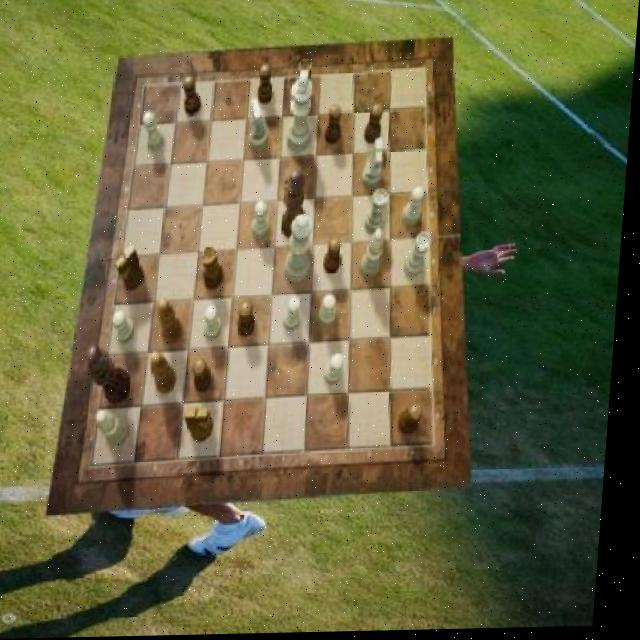bishop: (160, 299, 190, 346), (154, 352, 184, 395)
black-bishop: (89, 345, 140, 406)
black-king: (117, 245, 150, 292), (188, 408, 220, 443)
black-knight: (182, 76, 204, 117), (404, 406, 430, 439), (197, 359, 219, 394), (365, 106, 384, 146), (326, 106, 344, 147), (258, 66, 276, 106), (242, 303, 262, 338), (327, 240, 347, 275)
black-pawn: (285, 171, 313, 241)
black-queen: (203, 247, 228, 292), (295, 60, 316, 112)
black-rook: (100, 409, 138, 448), (364, 230, 388, 279)
white-bishop: (288, 71, 317, 153)
white-king: (249, 100, 272, 153), (363, 139, 385, 190)
white-knight: (143, 112, 169, 153), (115, 311, 140, 346), (405, 189, 427, 228), (255, 201, 274, 239), (209, 305, 228, 340), (329, 355, 349, 388), (288, 298, 307, 332), (323, 295, 342, 328)
white-pawn: (286, 216, 316, 285)
white-queen: (407, 234, 434, 280), (367, 191, 392, 237)
